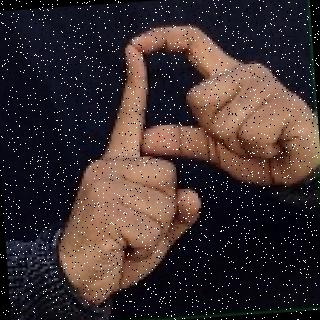D: (39, 21, 318, 292)
